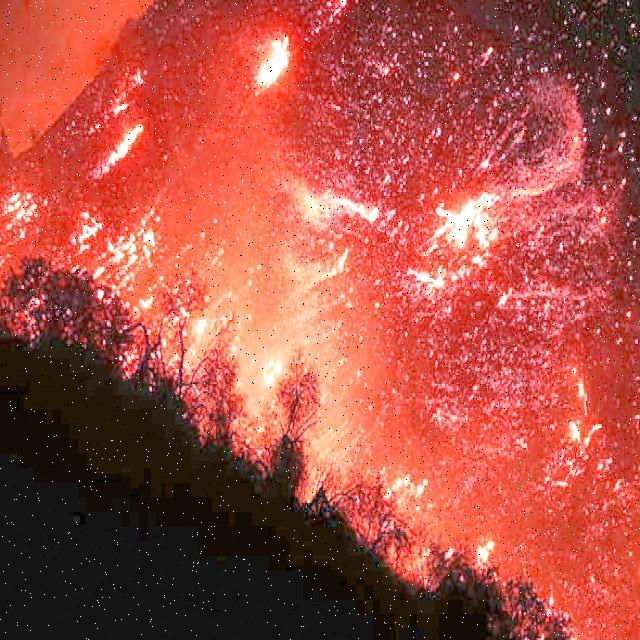api: (513, 77, 587, 203), (428, 185, 511, 269), (92, 207, 164, 286), (92, 120, 149, 182), (316, 186, 388, 226), (1, 187, 43, 247), (253, 37, 293, 97), (110, 63, 147, 125), (561, 413, 605, 465), (386, 465, 436, 505), (70, 210, 104, 256), (259, 356, 287, 396), (476, 524, 498, 572), (406, 270, 450, 290), (193, 312, 211, 344), (496, 281, 511, 315)
